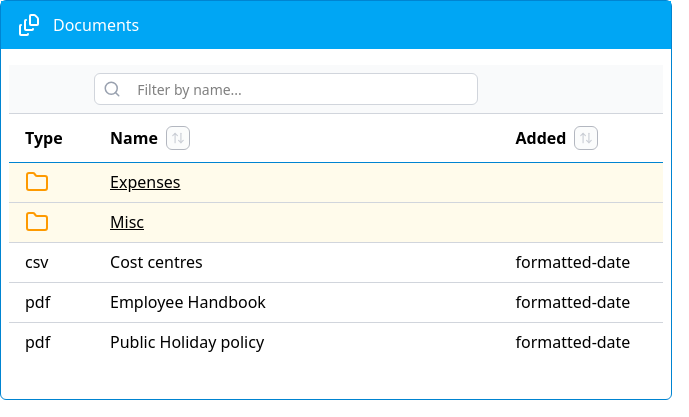
Test case: DocumentTable › Folder Navigation › opens a folder and shows only its contents
Click the button "Expenses" at {"x": 145, "y": 182}, box [9,162,663,202]
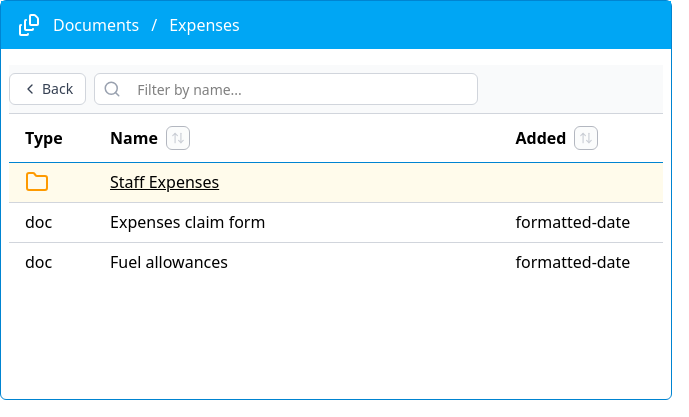
Expected: the text "Expenses claim form" is shown, [94,202,500,242]
Expected: the text "Employee Handbook" is gone
